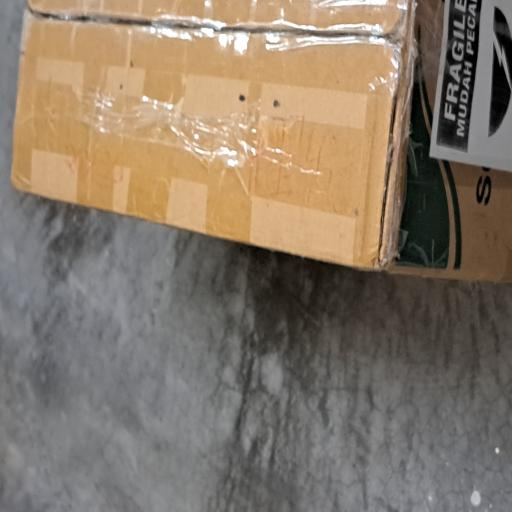cardboard: (175, 13, 384, 512)
